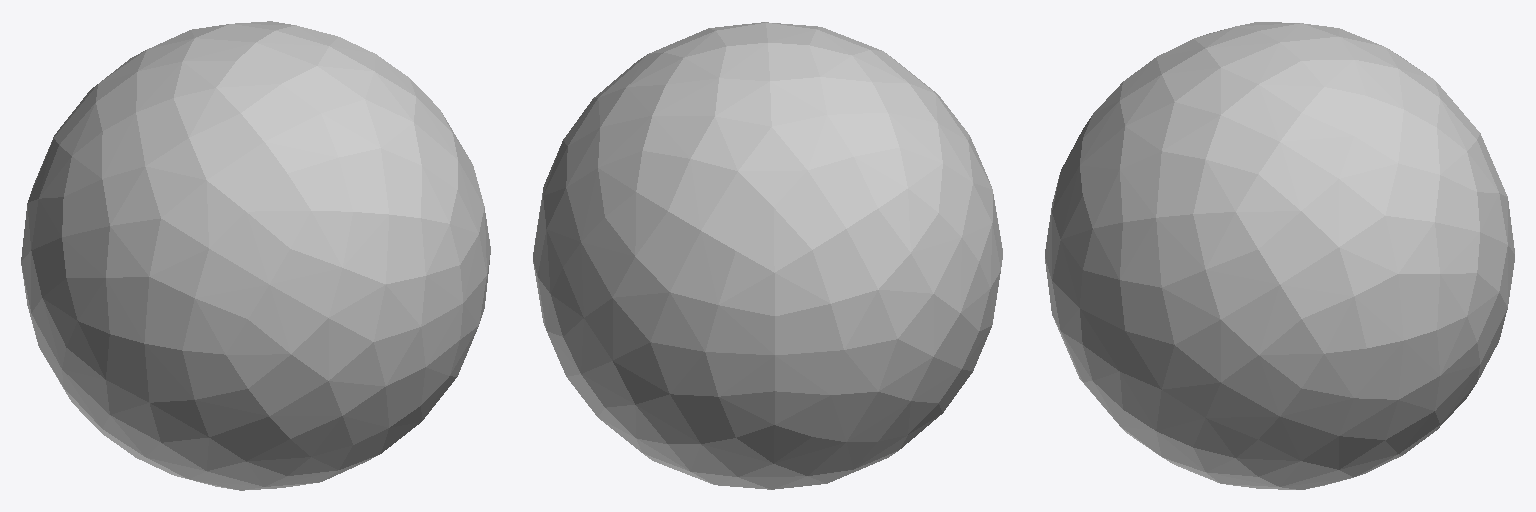
3 renders of one model, left to right at view 1: azimuth 30°, elevation 25°; view 2: azimuth 150°, elevation 25°; view 3: azimuth 270°, elevation 25°, orthographic.
Parts seen in each view (by area): view 1: pPlatonic1; view 2: pPlatonic1; view 3: pPlatonic1.
Part boxes in pixels (left/top/right/bottom): pPlatonic1: left=21, top=21, right=490, bottom=490; pPlatonic1: left=533, top=22, right=1002, bottom=489; pPlatonic1: left=1045, top=22, right=1514, bottom=489.
Bounding box in the file's own units: 1.99 × 2 × 2.